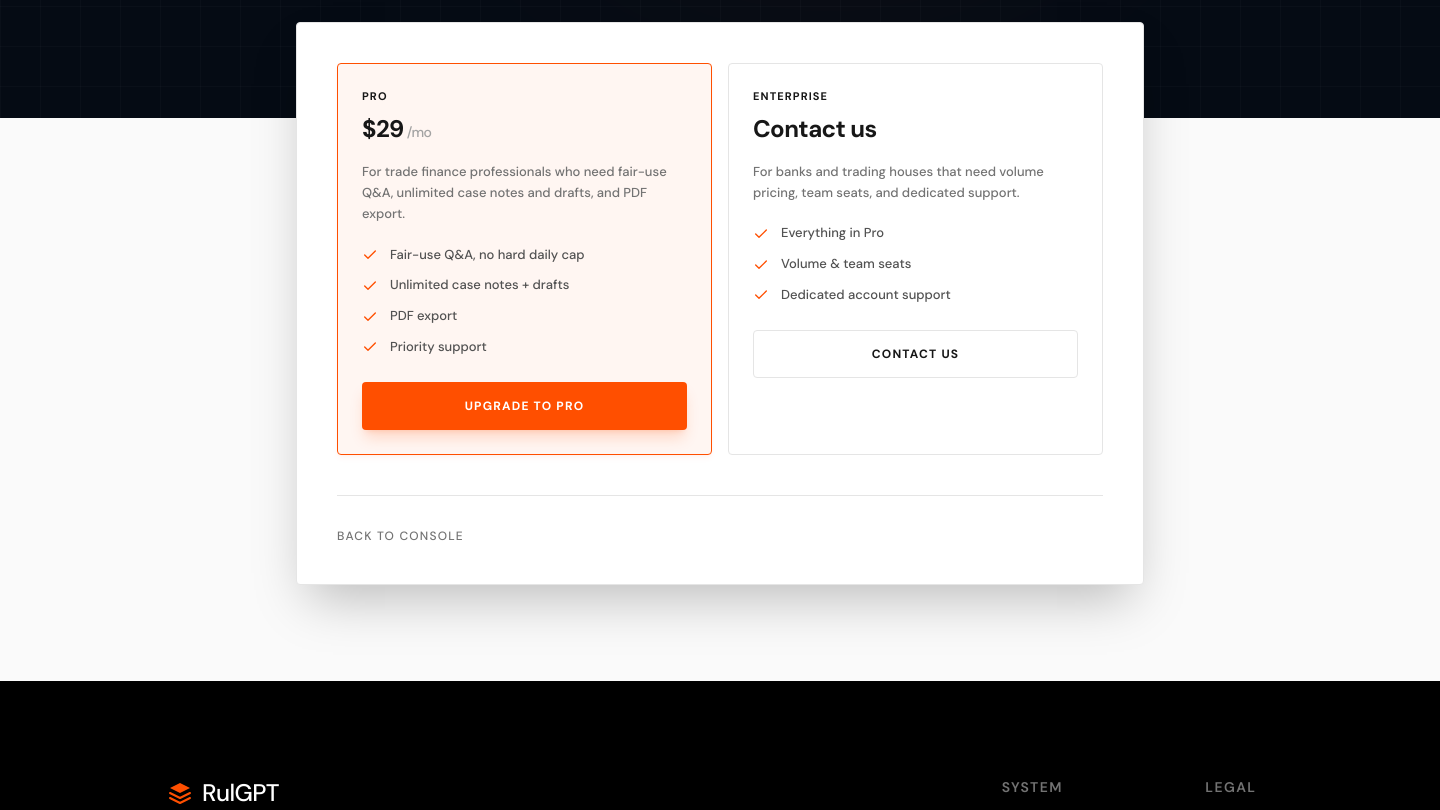
Test: Upgrade › uses the hosted checkout flow for the Pro plan when a bearer token is available
(page scrolled)
Click the button "Upgrade to Pro".
click(524, 406)  # box [362,382,687,430]
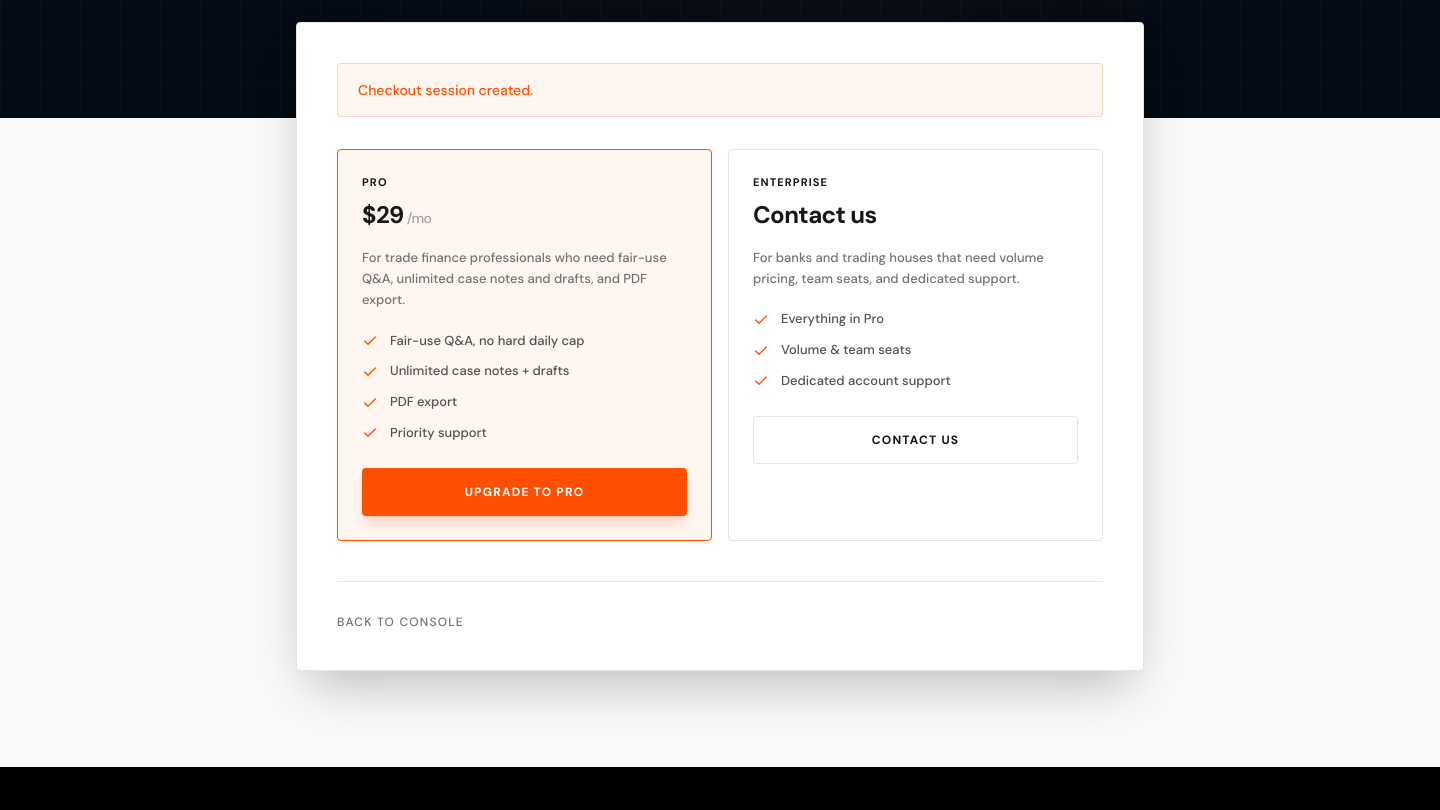
expect the text "Checkout session created." is shown: met, box [358,81,533,99]
